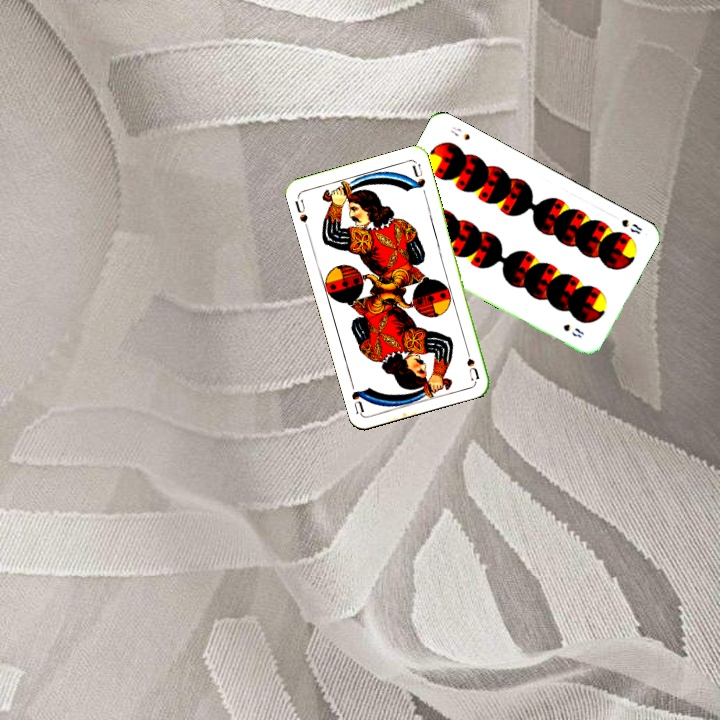S8: (617, 215, 645, 237)
SU: (461, 342, 482, 382), (290, 195, 311, 233)
